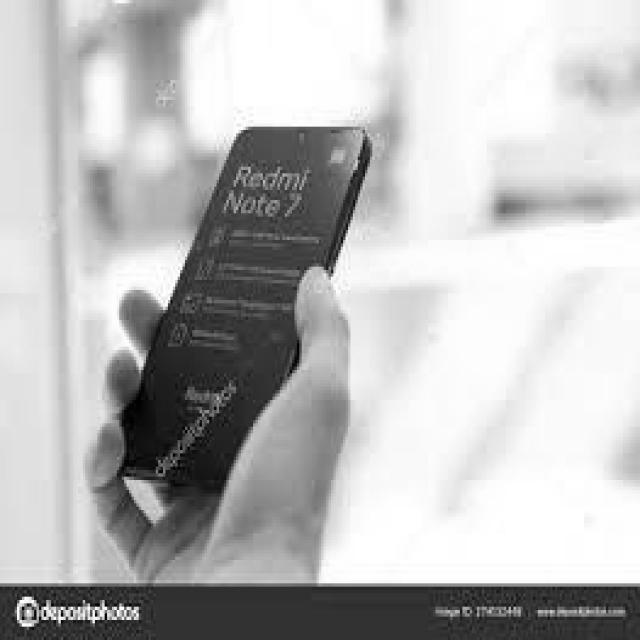No gun_phone: (119, 132, 373, 494)
